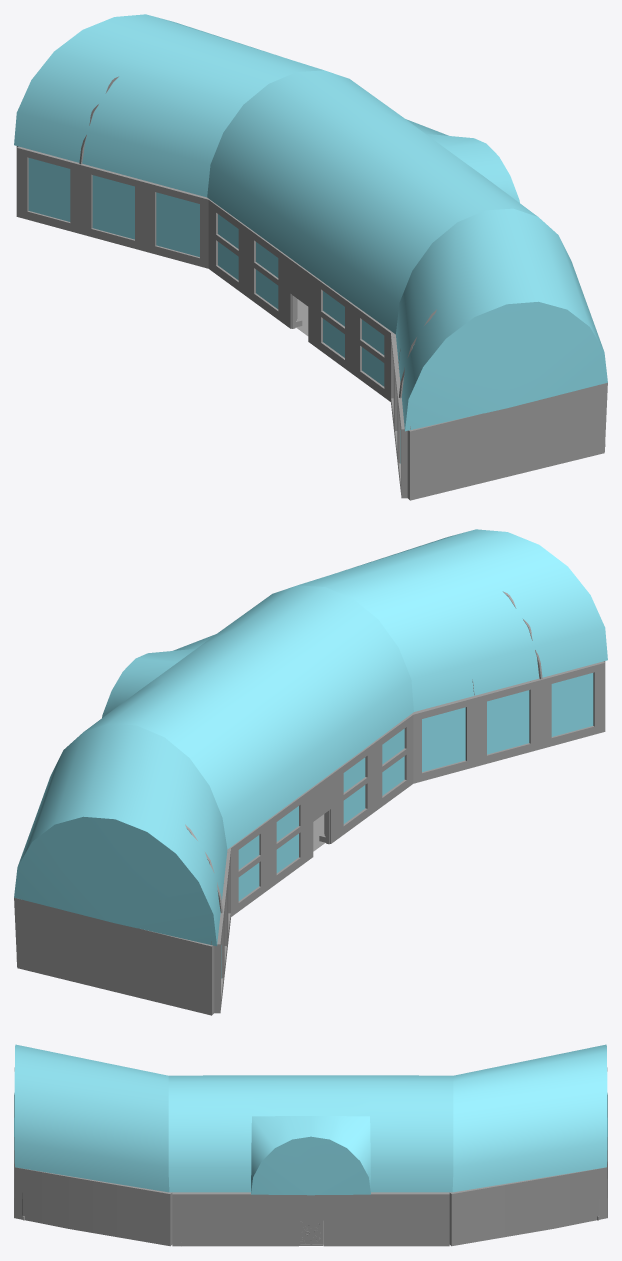
The model's file is ResearchRoom_Layout_V1.fbx.
The picture shows the model from 3 angles, top to bottom: view 1: azimuth 30°, elevation 25°; view 2: azimuth 150°, elevation 25°; view 3: azimuth 270°, elevation 25°; orthographic projection. The views are drawn at different scales.
Visible parts, largest first — view 1: pCube7; view 2: pCube7; view 3: pCube7.
Boxes of the visible parts, box(x1,y1,x2,y2) form: pCube7: box(14, 14, 607, 500); pCube7: box(14, 529, 607, 1015); pCube7: box(14, 1044, 607, 1246).
Bounding box in the file's own units: 23.19 × 13.75 × 56.91.
